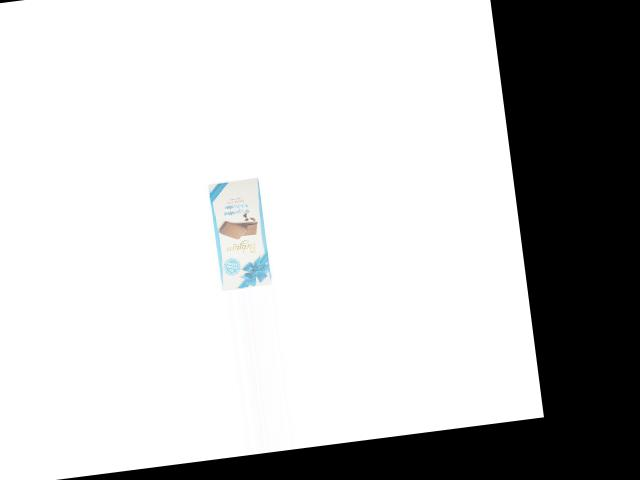chocolate: (203, 174, 279, 292)
